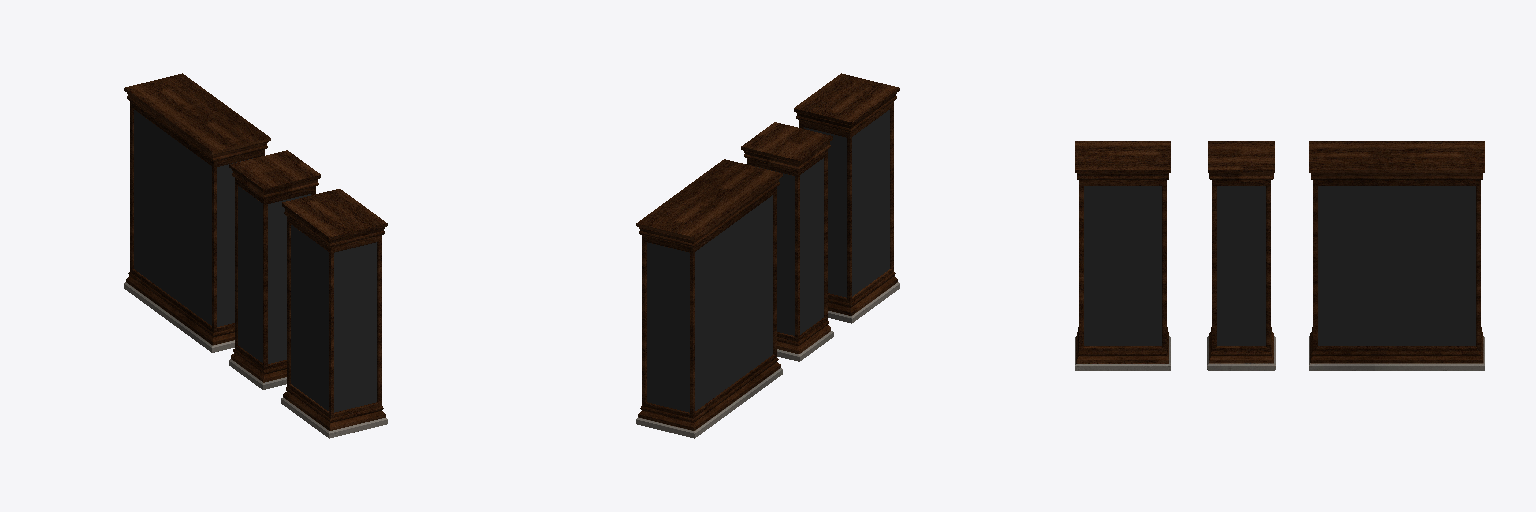
3 views of the same model, side by side, from view 1: azimuth 30°, elevation 25°; view 2: azimuth 150°, elevation 25°; view 3: azimuth 270°, elevation 25° (orthographic).
Visible parts, largest first — view 1: obj3, obj1, obj4, obj6, obj2, obj5; view 2: obj3, obj4, obj1, obj6, obj2, obj5; view 3: obj3, obj4, obj1, obj6, obj2, obj5.
Part boxes in pixels (left/top/right/bottom): obj3: left=134, top=110, right=252, bottom=326; obj1: left=291, top=225, right=376, bottom=412; obj4: left=124, top=73, right=270, bottom=352; obj6: left=281, top=189, right=387, bottom=438; obj2: left=238, top=186, right=310, bottom=363; obj5: left=229, top=150, right=320, bottom=389; obj3: left=647, top=195, right=772, bottom=412; obj4: left=636, top=159, right=782, bottom=438; obj1: left=804, top=110, right=889, bottom=297; obj6: left=794, top=73, right=899, bottom=323; obj2: left=755, top=158, right=823, bottom=335; obj5: left=741, top=122, right=833, bottom=361; obj3: left=1318, top=186, right=1475, bottom=345; obj4: left=1309, top=141, right=1484, bottom=370; obj1: left=1084, top=186, right=1161, bottom=345; obj6: left=1075, top=141, right=1170, bottom=370; obj2: left=1217, top=186, right=1265, bottom=345; obj5: left=1207, top=141, right=1275, bottom=370.
Size of the model in its own units: 0.7533 by 2.44 by 4.52.
Materials: 4 (3 with a texture image).